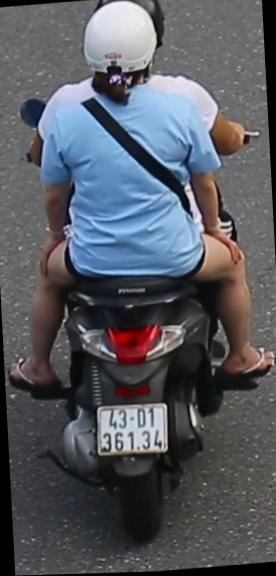LP: (94, 398, 171, 463)
helmet: (77, 0, 162, 112)
